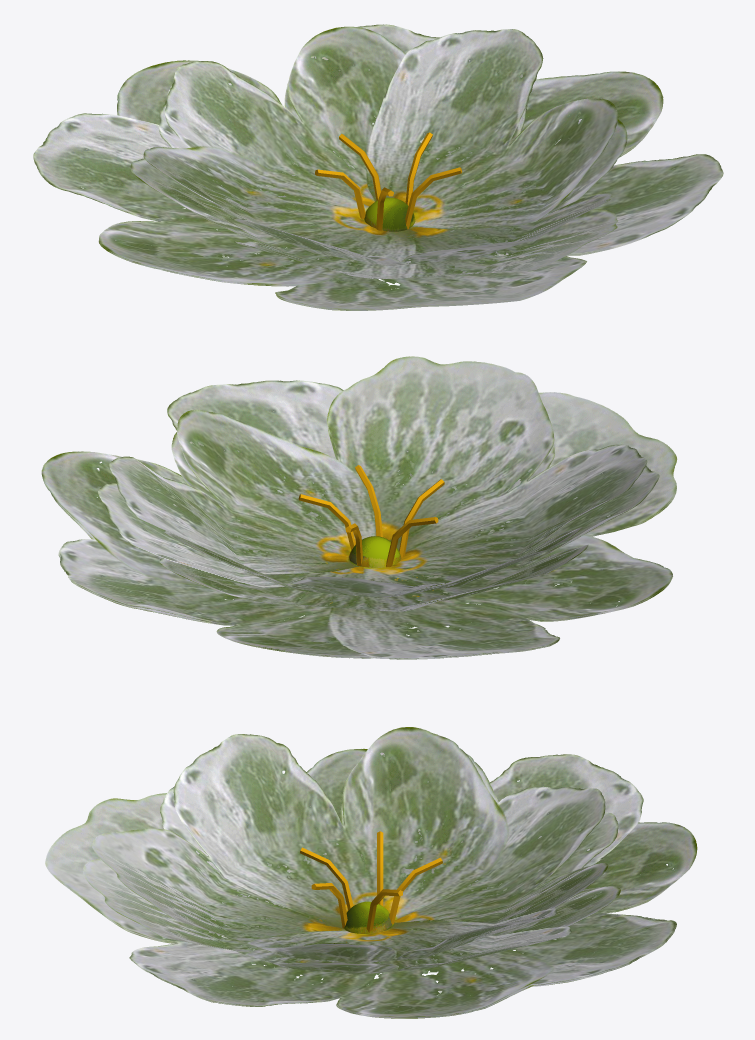
Rendered from W_Fleur_animated.FBX.
3 renders of one model, top to bottom at view 1: azimuth 30°, elevation 25°; view 2: azimuth 150°, elevation 25°; view 3: azimuth 270°, elevation 25°, orthographic. The views are drawn at different scales.
Parts seen in each view (by area): view 1: W_Petals01, W_Petals02, W_Petals01_back, W_Fleur, W_Petals003; view 2: W_Petals01, W_Petals02, W_Petals01_back, W_Fleur, W_Petals003; view 3: W_Petals01, W_Petals02, W_Petals01_back, W_Fleur, W_Petals003.
Part boxes in pixels (x1,y1,x2,y2): W_Petals01: [143, 26, 617, 265]; W_Petals02: [33, 24, 723, 309]; W_Petals01_back: [130, 55, 627, 278]; W_Fleur: [315, 132, 462, 231]; W_Petals003: [33, 93, 722, 310]; W_Petals01: [109, 356, 647, 598]; W_Petals02: [41, 380, 677, 658]; W_Petals01_back: [98, 428, 659, 611]; W_Fleur: [298, 465, 444, 567]; W_Petals003: [48, 411, 676, 659]; W_Petals01: [92, 727, 608, 963]; W_Petals02: [45, 748, 697, 1017]; W_Petals01_back: [83, 752, 620, 974]; W_Fleur: [300, 831, 442, 933]; W_Petals003: [45, 779, 676, 1018].
Bounding box in the file's own units: 64.83 × 11.97 × 64.23.
